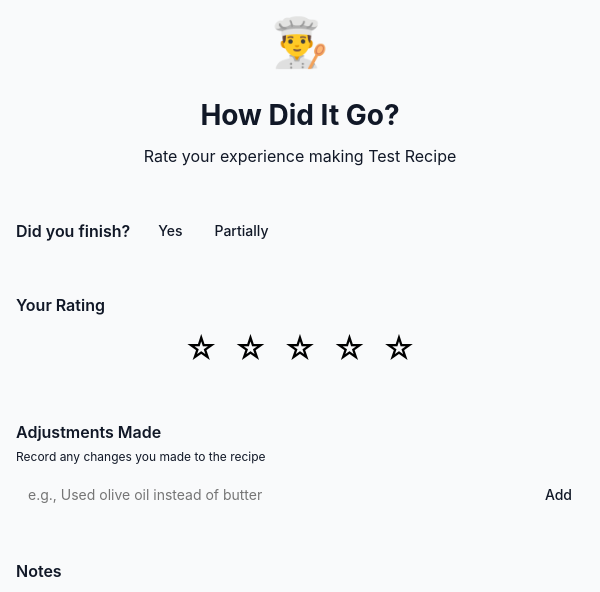
Test: CookCompletion › can add an adjustment by pressing Enter
The width and height of the screenshot is (600, 592).
Type "Added extra garlic" into the field with placeholder "e.g., Used olive oil instead of butter" at (270, 494), box [16, 478, 525, 511]
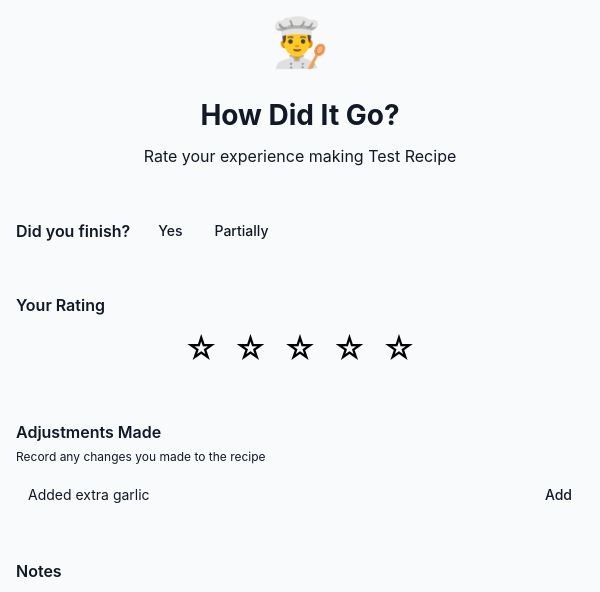
Press Enter in the field with placeholder "e.g., Used olive oil instead of butter", box [16, 478, 525, 511]
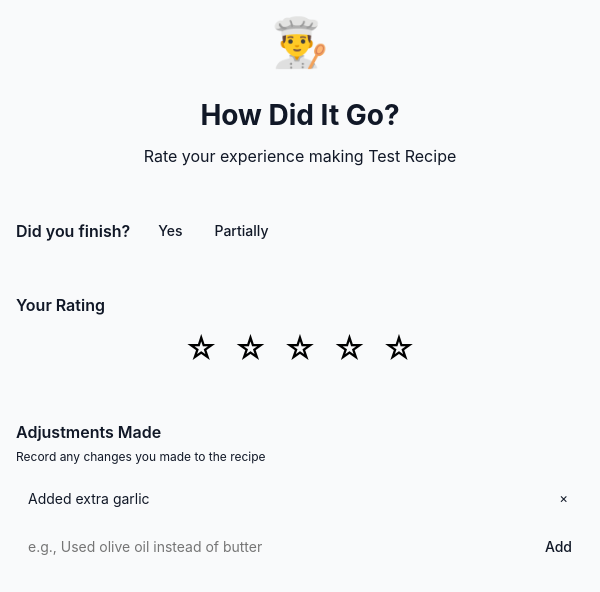
Expected: the text "Added extra garlic" is shown, [28, 488, 150, 508]
Expected: the field with placeholder "e.g., Used olive oil instead of butter" is empty, [16, 530, 525, 563]
